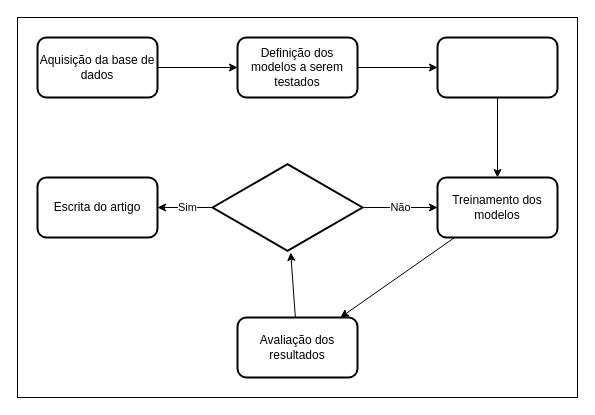
The diagram is 595 pixels wide and 415 high, and some of its shapes have lost their labels. Here are the shapes that lost their labels. From the top down, the box of each, then its label:
(436, 36, 558, 98): Pesquisa e escolha de métricas de avaliação
(211, 161, 363, 253): Resultados aceitaveis?
